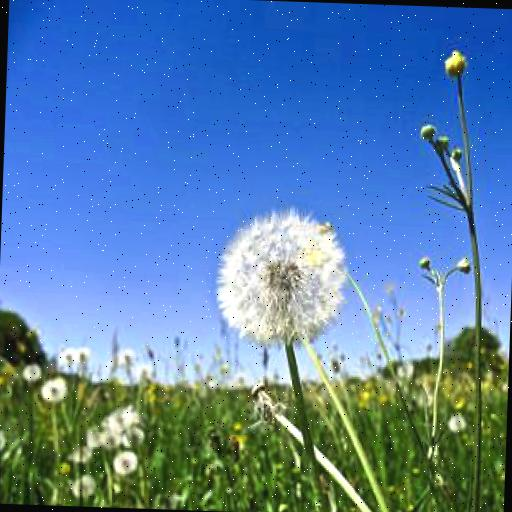dandelion: (215, 209, 346, 346), (112, 449, 138, 472), (42, 379, 62, 404)
